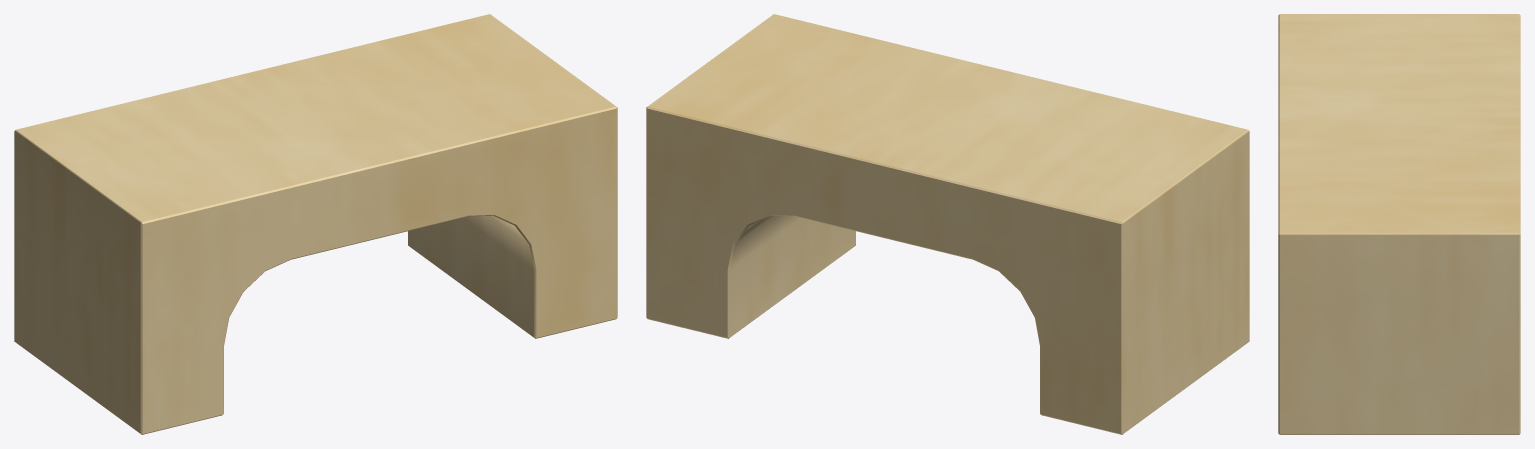
File: block.fbx
The picture shows the model from 3 angles, left to right: view 1: azimuth 30°, elevation 25°; view 2: azimuth 150°, elevation 25°; view 3: azimuth 270°, elevation 25°; orthographic projection. The views are drawn at different scales.
Parts seen in each view (by area): view 1: block; view 2: block; view 3: block.
Part boxes in pixels (x1,y1,x2,y2): block: (14, 14, 617, 434); block: (646, 14, 1249, 434); block: (1278, 14, 1520, 434).
Bounding box in the file's own units: 2.6 × 1.11 × 1.21.
